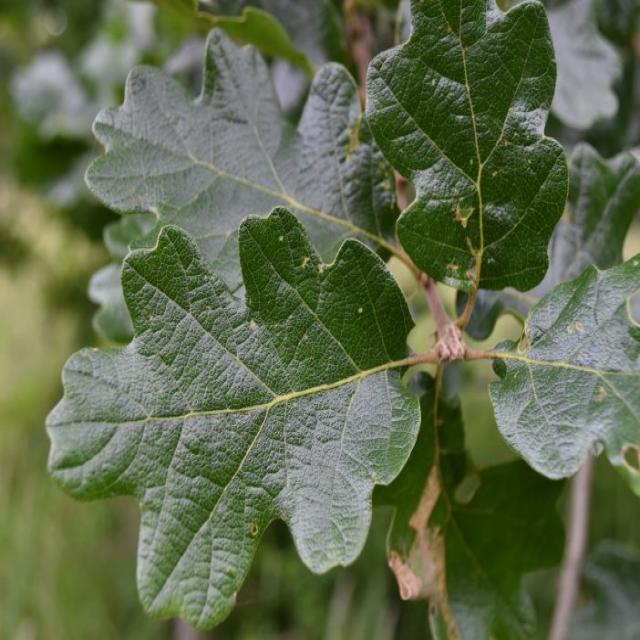Quercus garryana: (44, 0, 585, 628)
